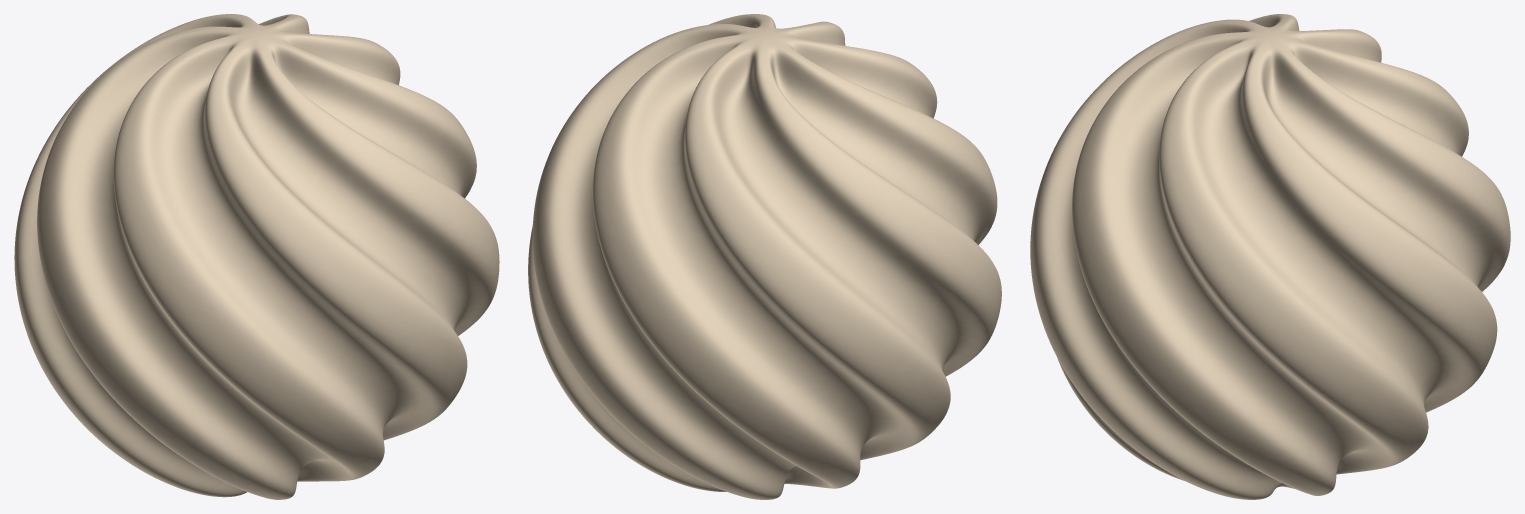
3 renders of one model, left to right at view 1: azimuth 30°, elevation 25°; view 2: azimuth 150°, elevation 25°; view 3: azimuth 270°, elevation 25°, orthographic.
Visible parts, largest first — view 1: Sphere; view 2: Sphere; view 3: Sphere.
Boxes of the visible parts, box(x1,y1,x2,y2) form: Sphere: box(14, 14, 499, 499); Sphere: box(528, 14, 1001, 499); Sphere: box(1030, 14, 1510, 499).
Bounding box in the file's own units: 96112 × 98015 × 96112.
